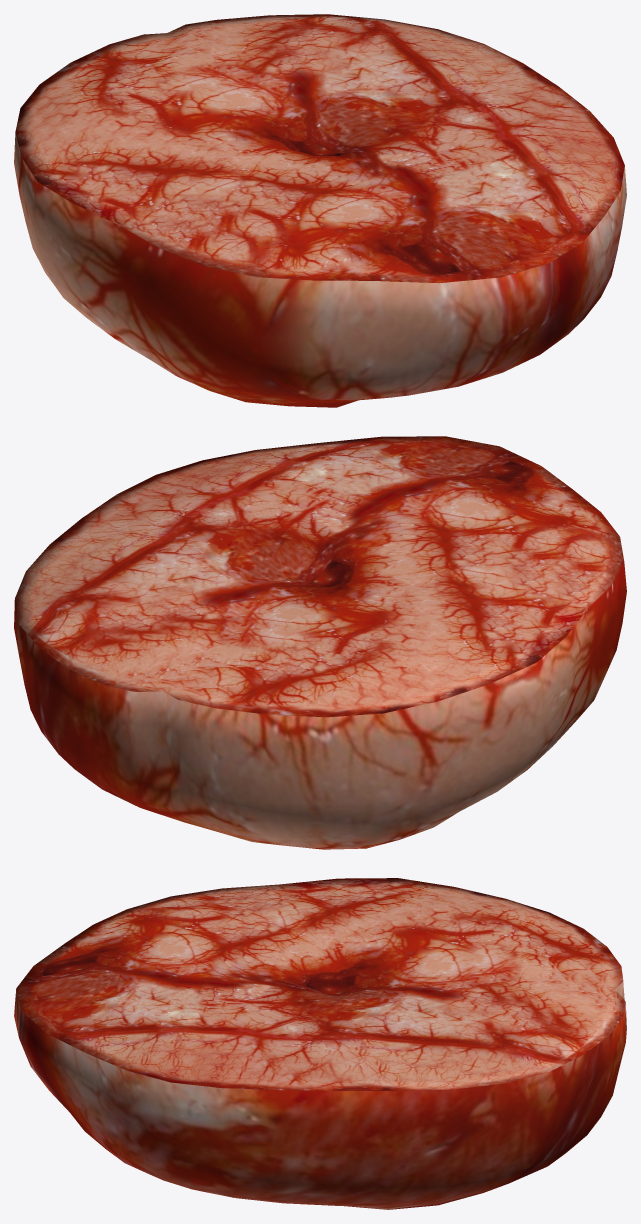
The model's file is hjq.fbx.
3 views of the same model, one above another, from view 1: azimuth 30°, elevation 25°; view 2: azimuth 150°, elevation 25°; view 3: azimuth 270°, elevation 25° (orthographic). The views are drawn at different scales.
Parts seen in each view (by area): view 1: zhongliu:pCube2; view 2: zhongliu:pCube2; view 3: zhongliu:pCube2.
Part boxes in pixels (x1,y1,x2,y2): zhongliu:pCube2: (14,14,626,407); zhongliu:pCube2: (14,436,626,849); zhongliu:pCube2: (14,878,626,1209).
Bounding box in the file's own units: 22.74 × 10.6 × 27.15.
